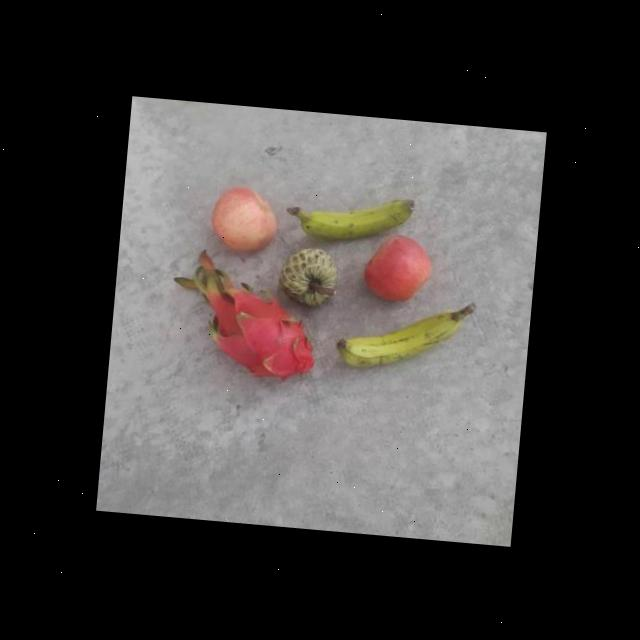Sakya fruit: (276, 243, 344, 309)
apple: (359, 228, 436, 304), (207, 180, 281, 252)
banana: (330, 288, 466, 378), (295, 177, 417, 248)
pitaya: (202, 285, 321, 385)
